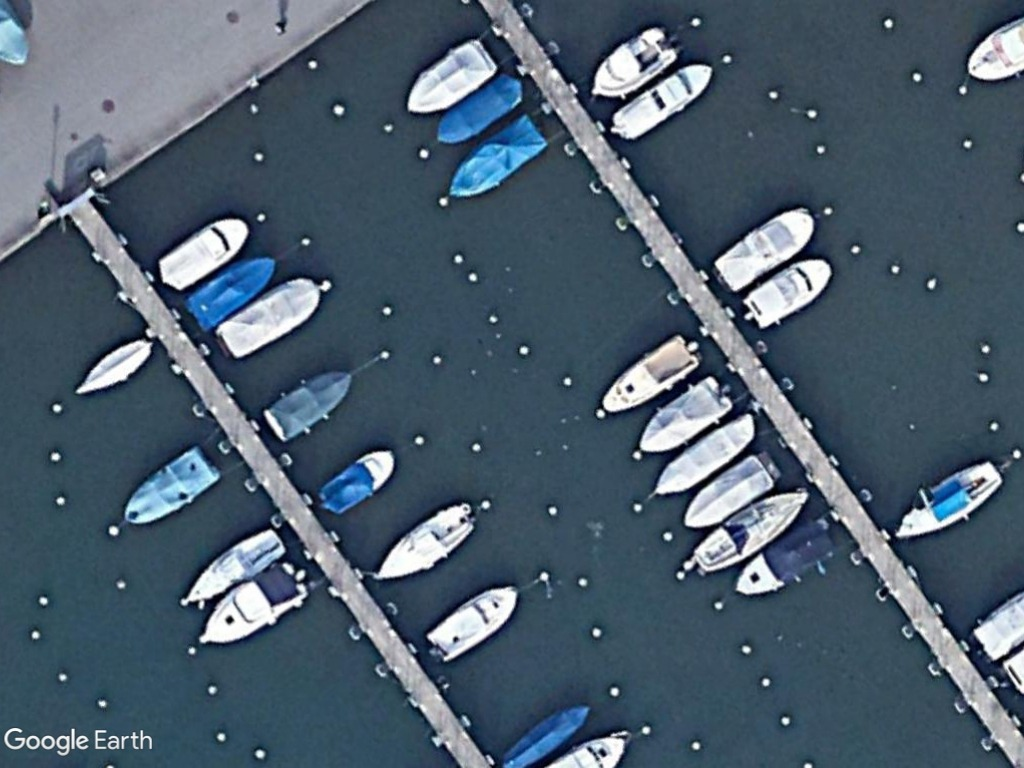boat: (688, 485, 811, 574), (194, 556, 308, 652), (648, 410, 759, 503), (890, 455, 1008, 540), (713, 204, 819, 295), (370, 497, 477, 582), (216, 271, 318, 360), (178, 525, 290, 606), (118, 443, 219, 530), (447, 114, 548, 200), (608, 62, 714, 141), (635, 373, 733, 456), (401, 39, 504, 117), (598, 335, 694, 417), (732, 521, 831, 600), (426, 582, 524, 661), (681, 452, 778, 531), (189, 250, 280, 331), (431, 72, 527, 148), (157, 213, 249, 292), (263, 366, 355, 442), (589, 26, 681, 101), (743, 255, 834, 328), (500, 699, 592, 768), (315, 444, 393, 514), (70, 336, 152, 399)
